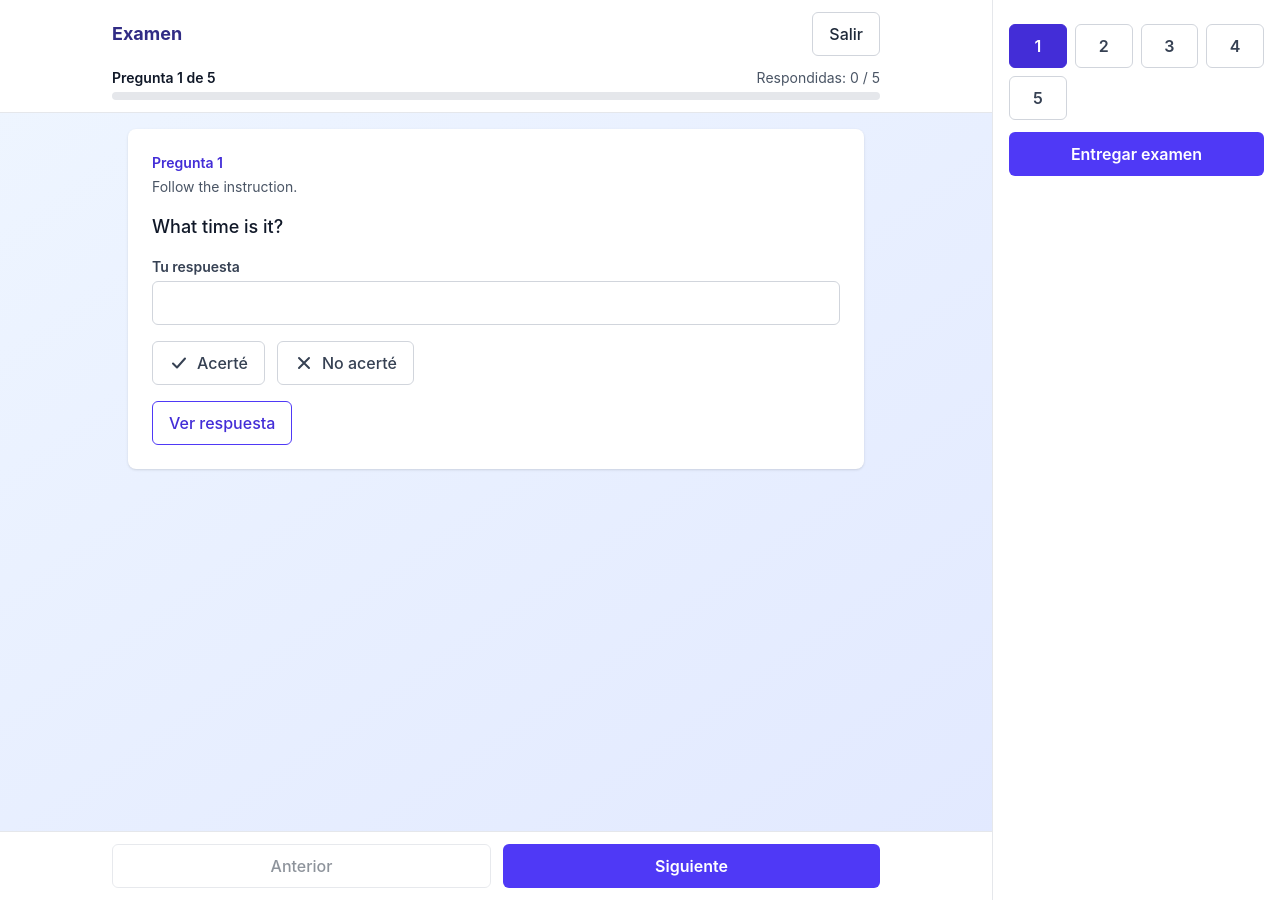
Test: ExamPage - rendering and progress › shows the current position in the progress text
Click the button "3" at {"x": 1169, "y": 46}, box [1140, 24, 1198, 68]
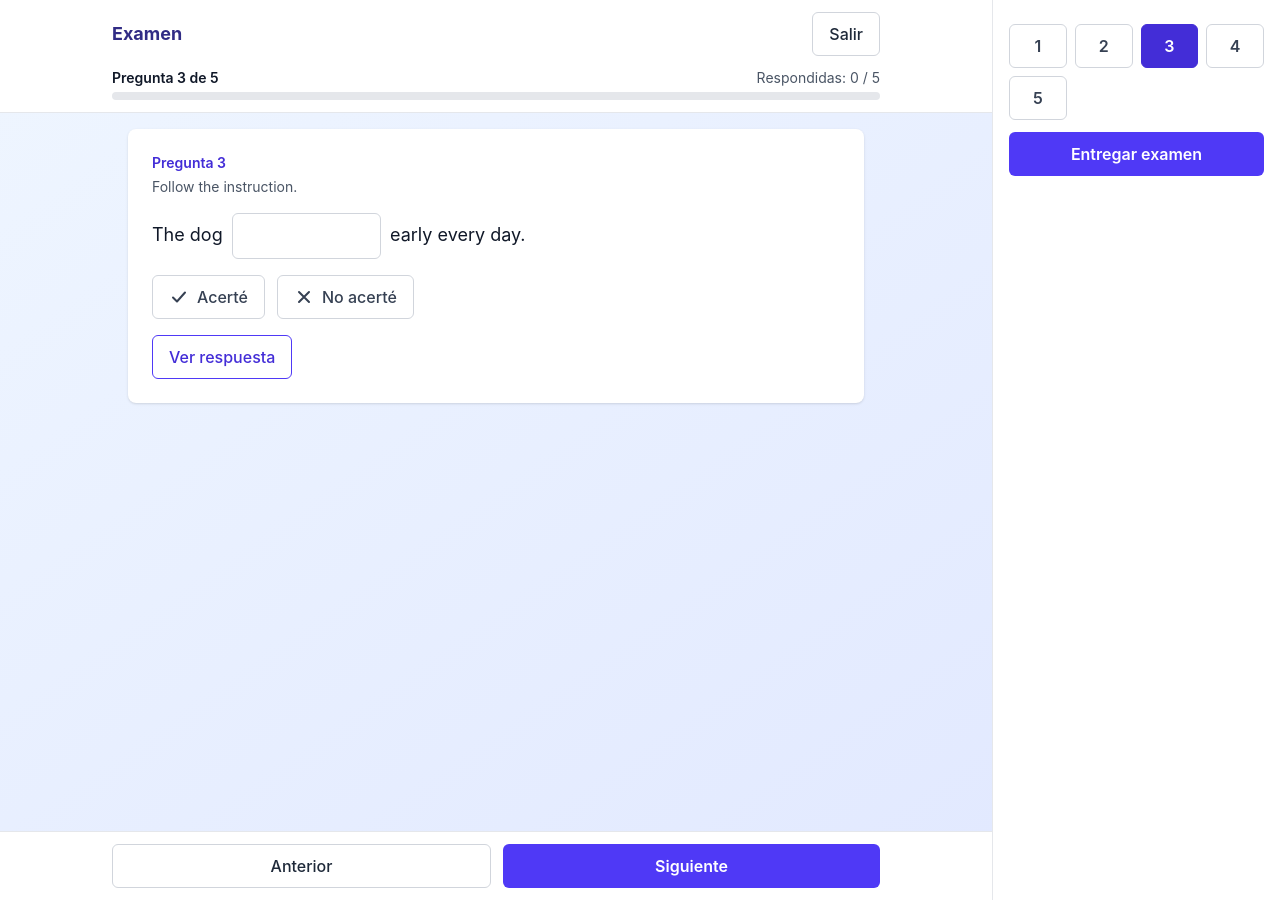
Expected: the text "Pregunta 3 de 5" is shown, [112, 68, 219, 88]
